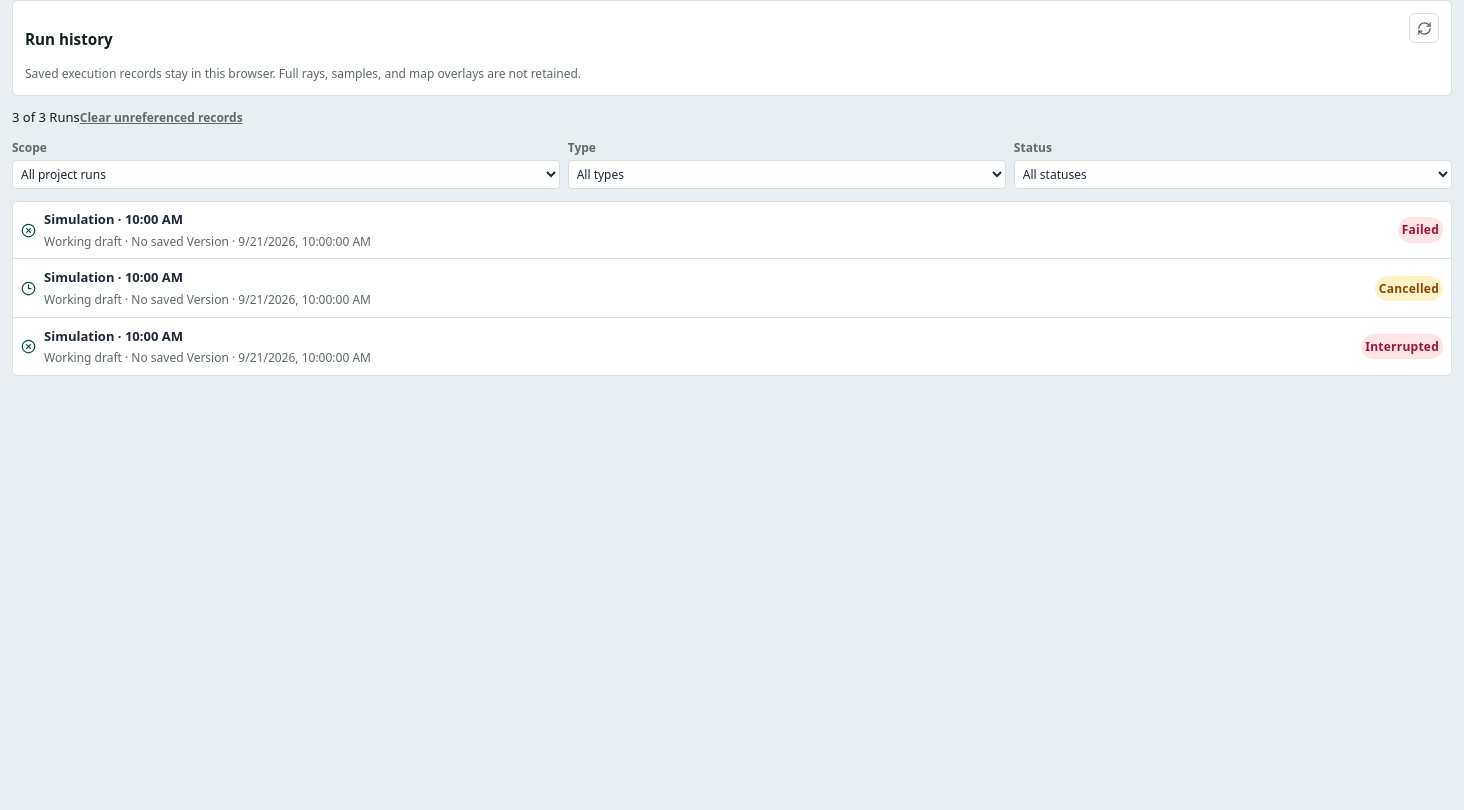
RunHistoryPanel › shows failed, cancelled, and interrupted lifecycle semantics
The width and height of the screenshot is (1464, 810).
Click the button with aria-label "Open Simulation · 10:00 AM, Cancelled, Working draft · No sa": coordinates (113, 277) [13,260,1451,318]
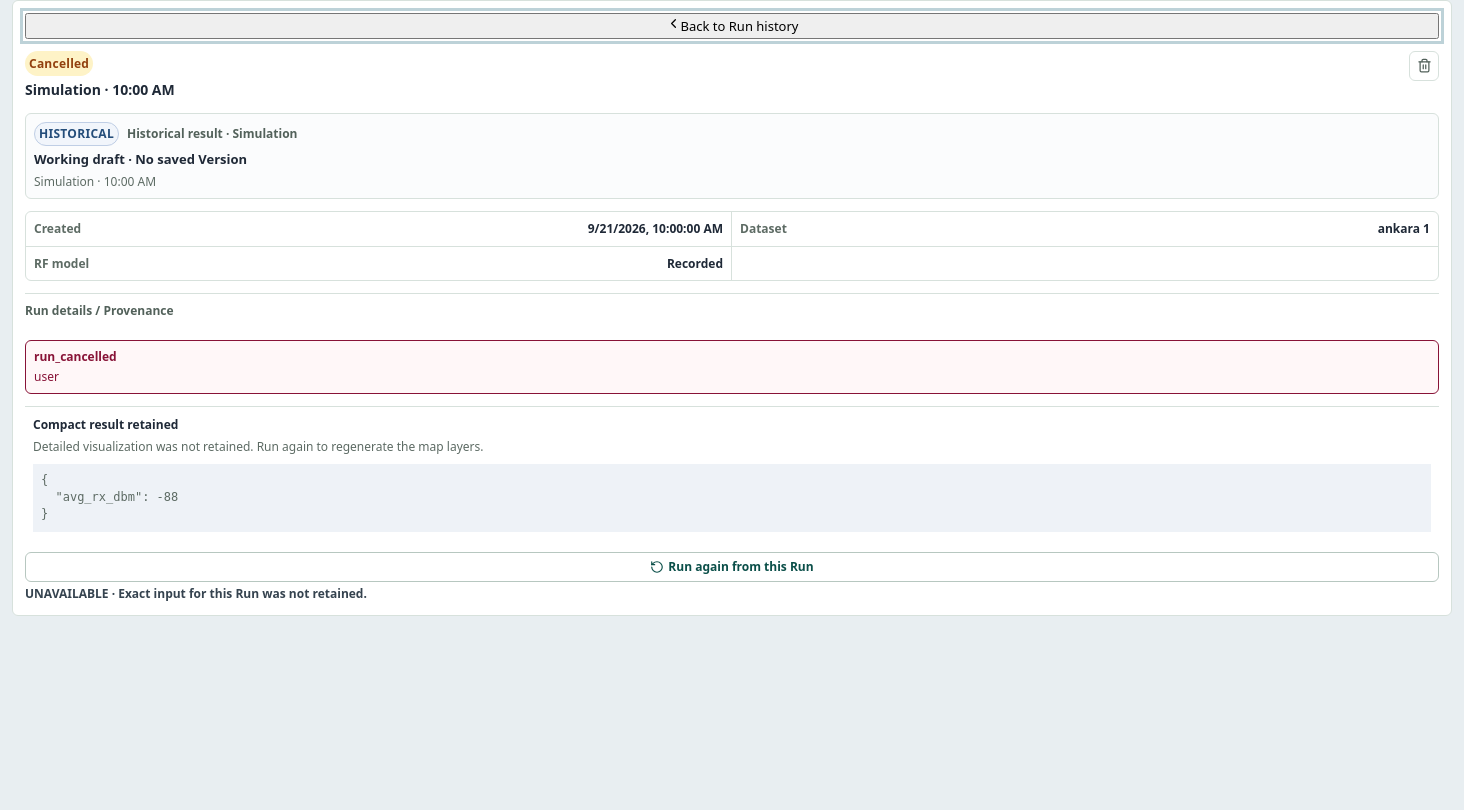
Expected: the text "Cancelled" is shown, [25,51,93,76]
Click the button "Back to Run history": coordinates (732, 26) [25,13,1439,39]
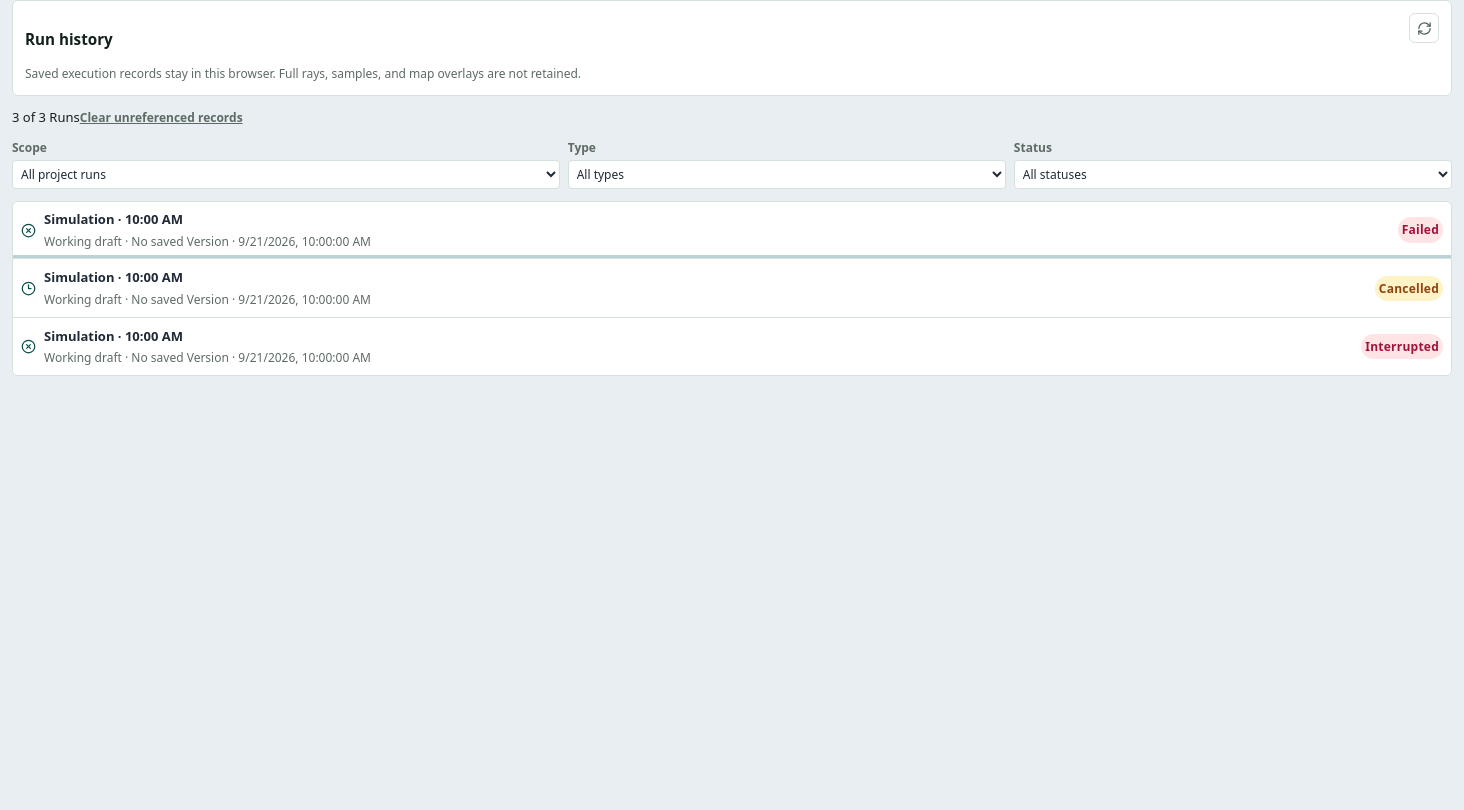
Click the button with aria-label "Open Simulation · 10:00 AM, Interrupted, Working draft · No": coordinates (113, 336) [13,318,1451,375]
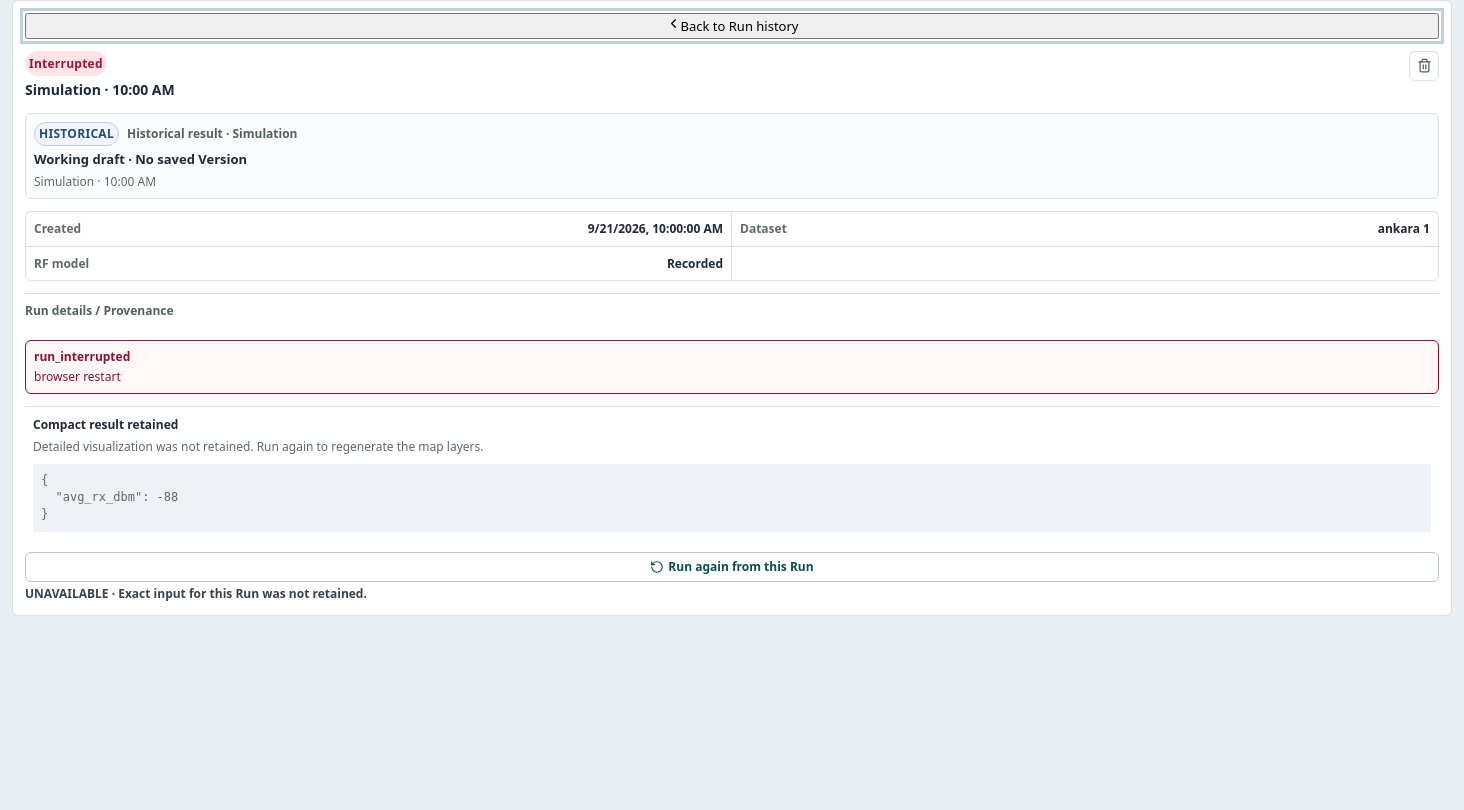
Expected: the text "Interrupted" is shown, [25,51,107,76]
